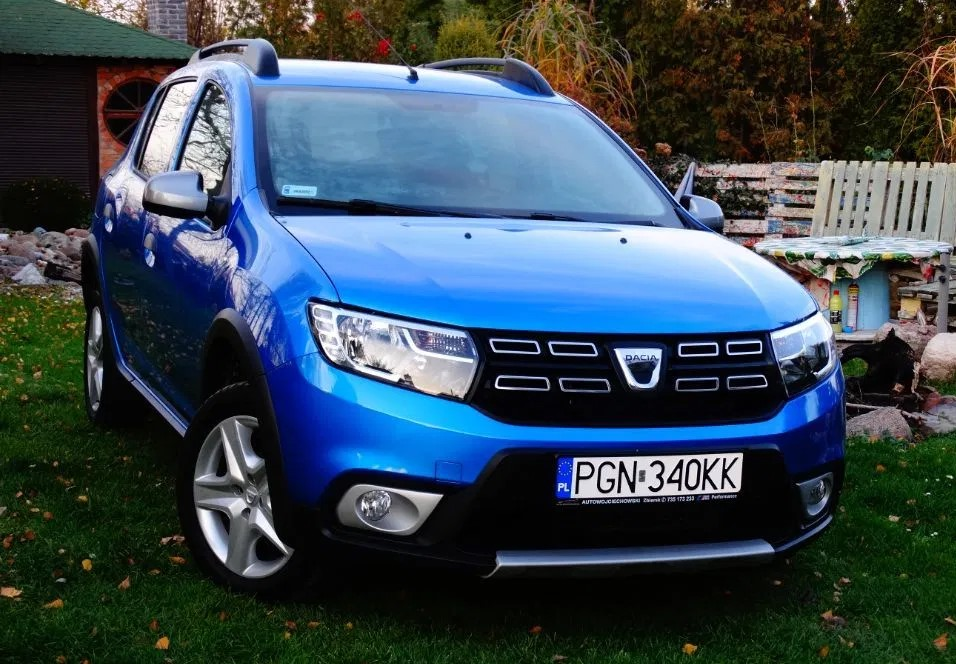number_plate: (540, 446, 762, 512)
